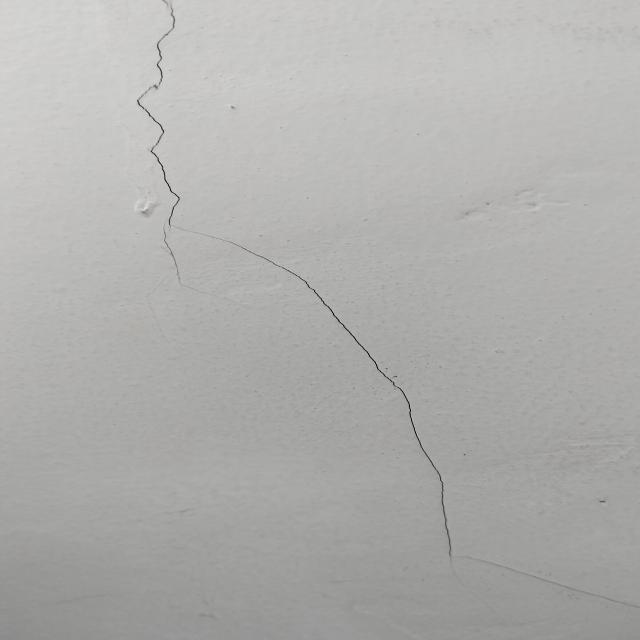Crack: (128, 3, 640, 611)
